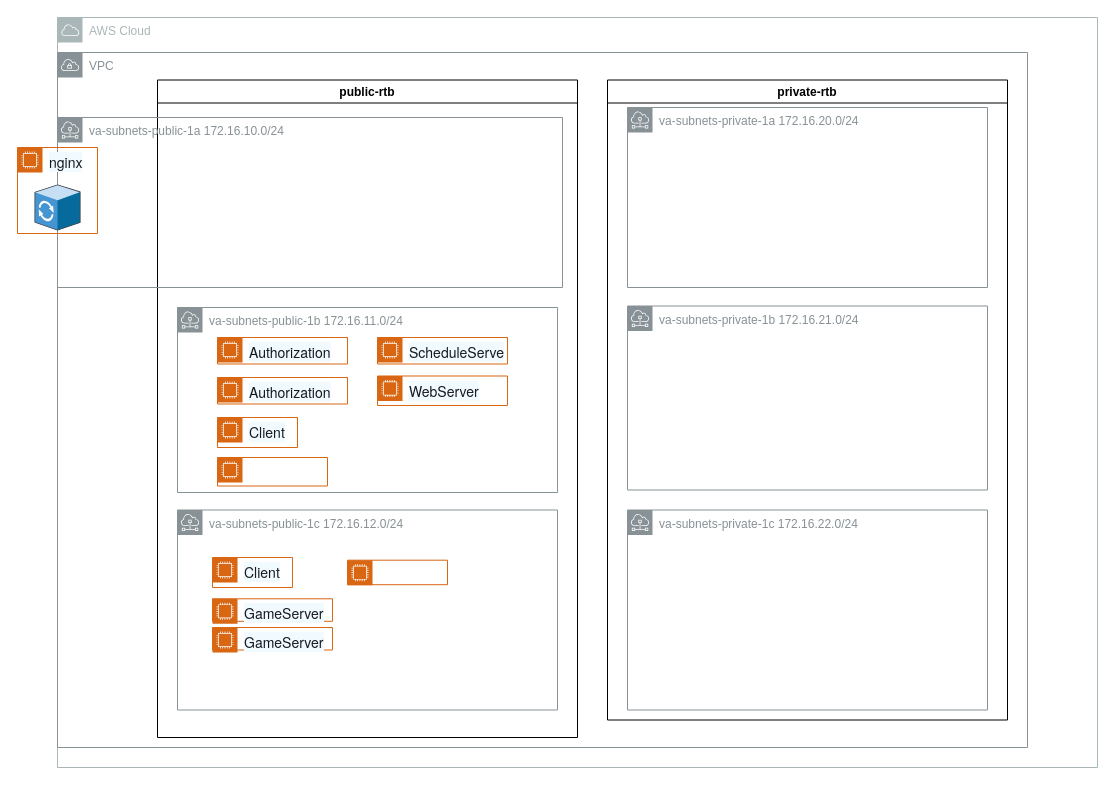
This 1115x785 diagram has some shape labels left out. The shapes that lost their labels are listed below. From the top down, each one's centre as x and y in pixels, then its label:
the point at 272,471: Database
the point at 397,572: ICMP
